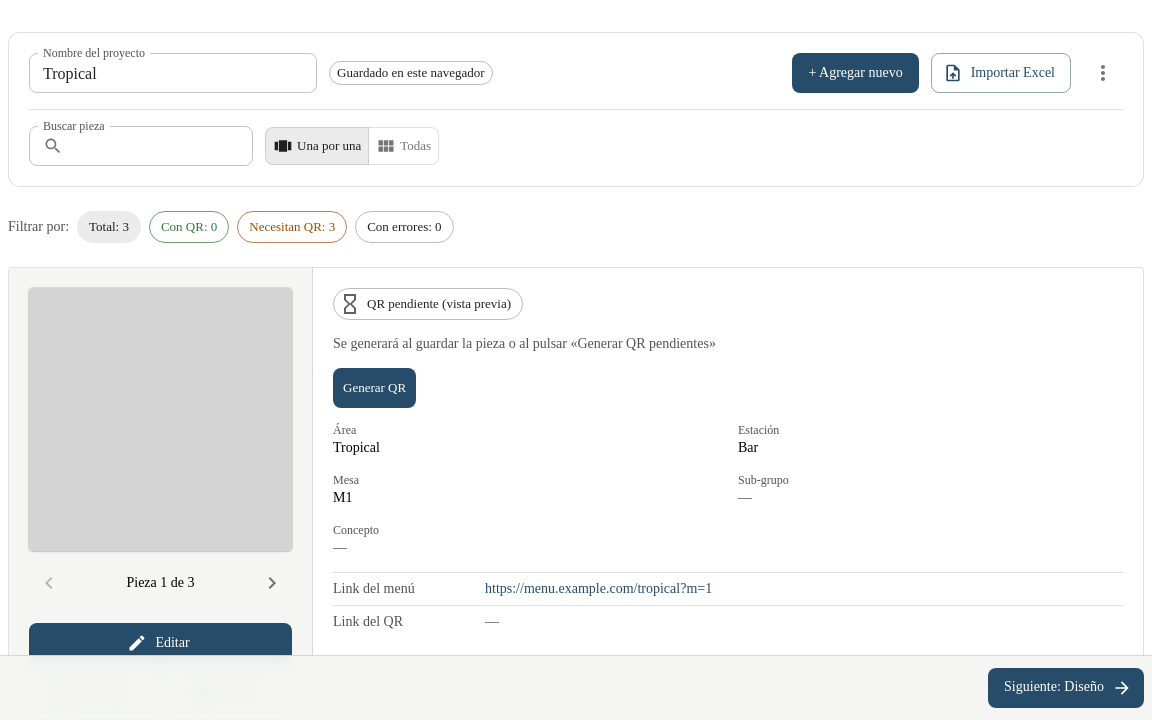
Test case: filtros, búsqueda, vistas y paginación › el contador «Necesitan QR» filtra la lista y se puede quitar
Expected: the button with test id "counter-needQr" reads "Necesitan QR: 3", [237, 211, 347, 243]
Click the button with test id "counter-withQr".
click(189, 227)  # box [149, 211, 229, 243]
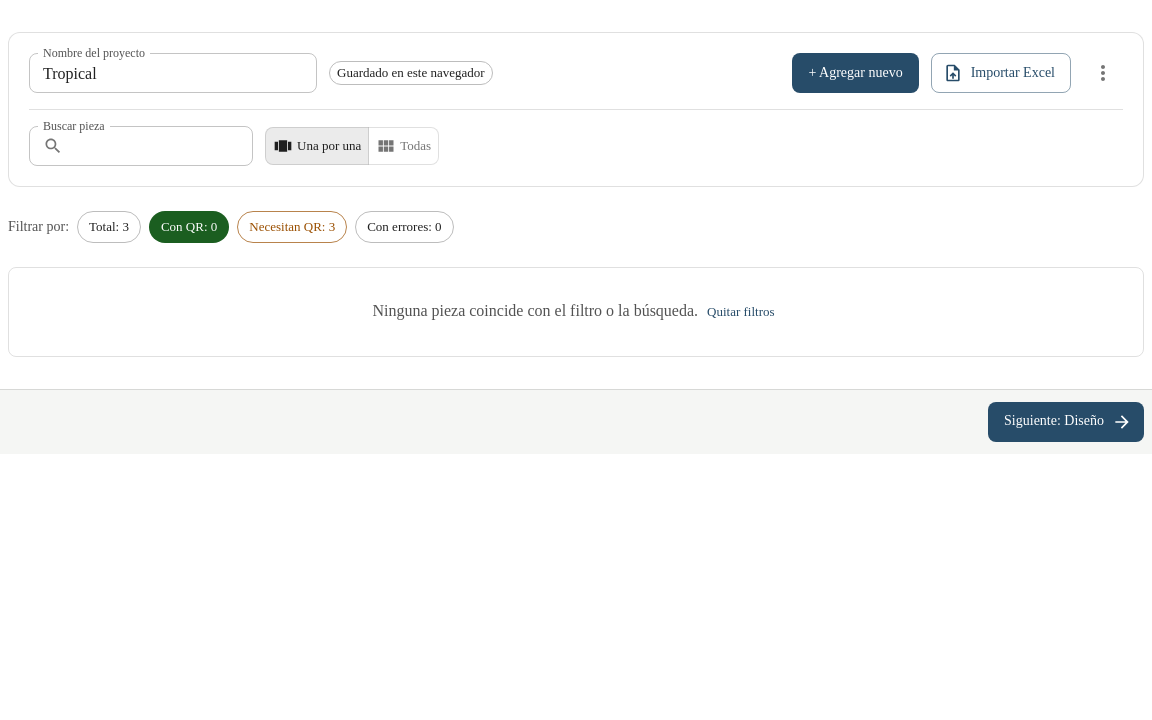
Expected: the text "Ninguna pieza coincide con el filtro o la búsqueda. Quitar filtros" is shown, [8, 267, 1144, 357]
Click the button "Quitar filtros".
click(741, 312)  # box [702, 292, 780, 332]
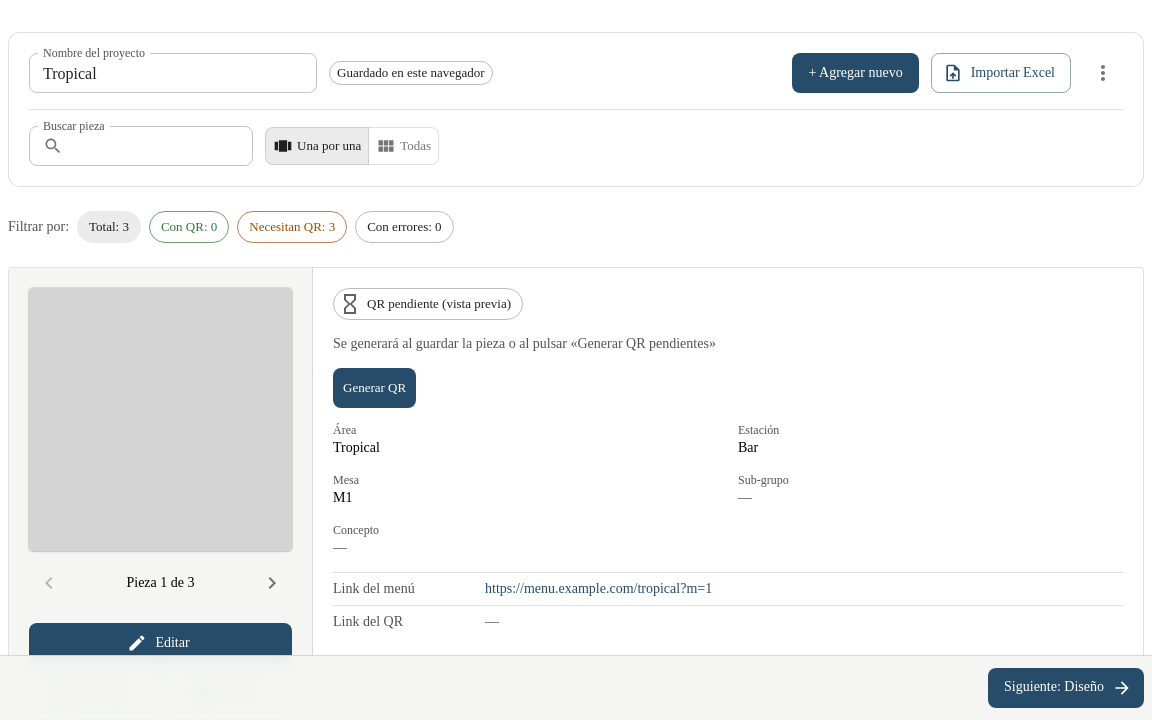
Expected: the text "Pieza 1 de 3" is shown, [126, 573, 194, 593]
